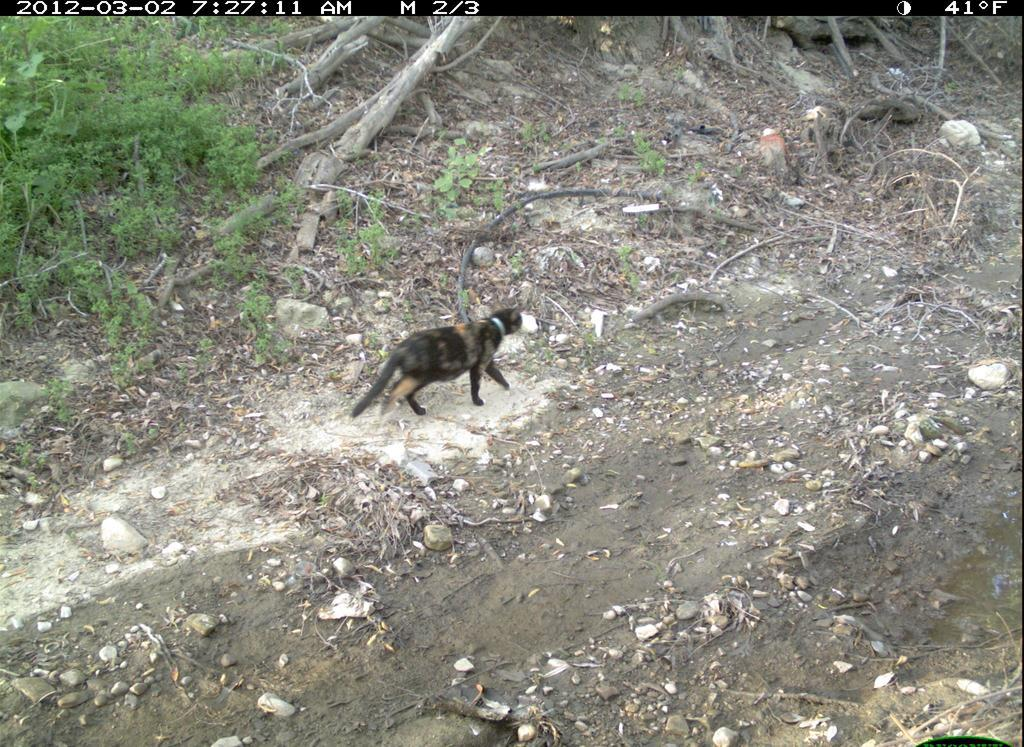cat: (345, 295, 532, 431)
